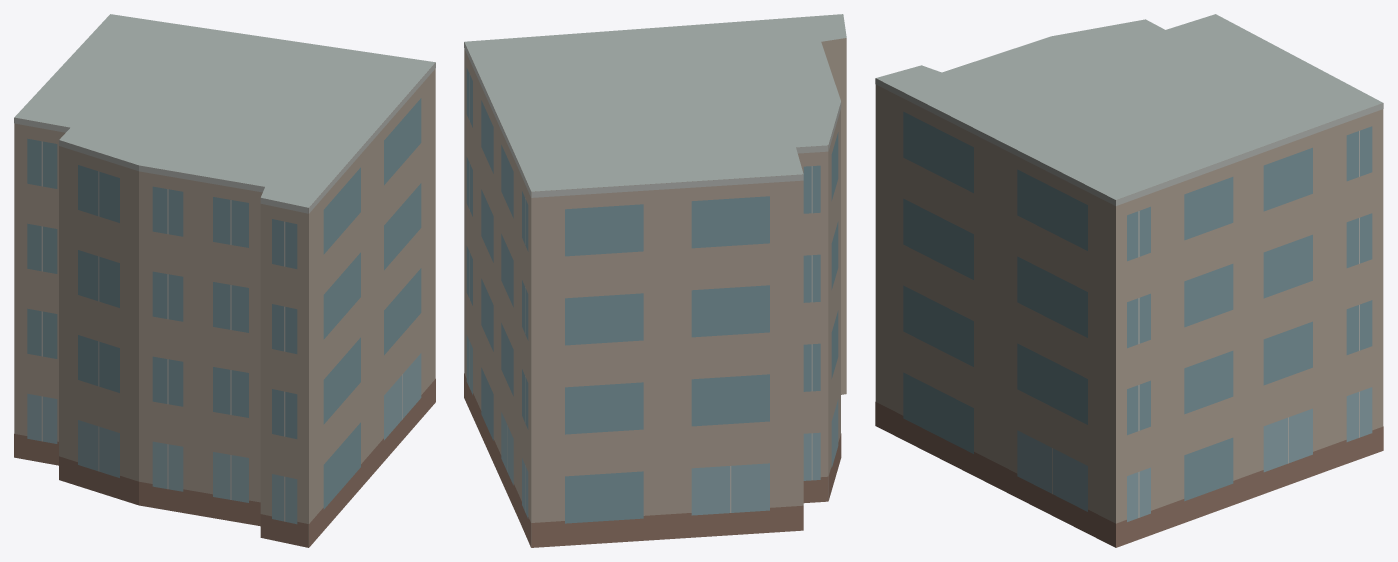
Rendered from survey-upis-32660637.glb.
3 renders of one model, left to right at view 1: azimuth 30°, elevation 25°; view 2: azimuth 150°, elevation 25°; view 3: azimuth 270°, elevation 25°, orthographic. The views are drawn at different scales.
Visible parts, largest first — view 1: survey-upis-32660637.tmp; view 2: survey-upis-32660637.tmp; view 3: survey-upis-32660637.tmp.
Boxes of the visible parts, x1,y1,x2,y2 form: survey-upis-32660637.tmp: (14, 14, 435, 547); survey-upis-32660637.tmp: (464, 14, 846, 547); survey-upis-32660637.tmp: (875, 14, 1383, 547).
Bounding box in the file's own units: 15.93 × 13.88 × 18.38.
